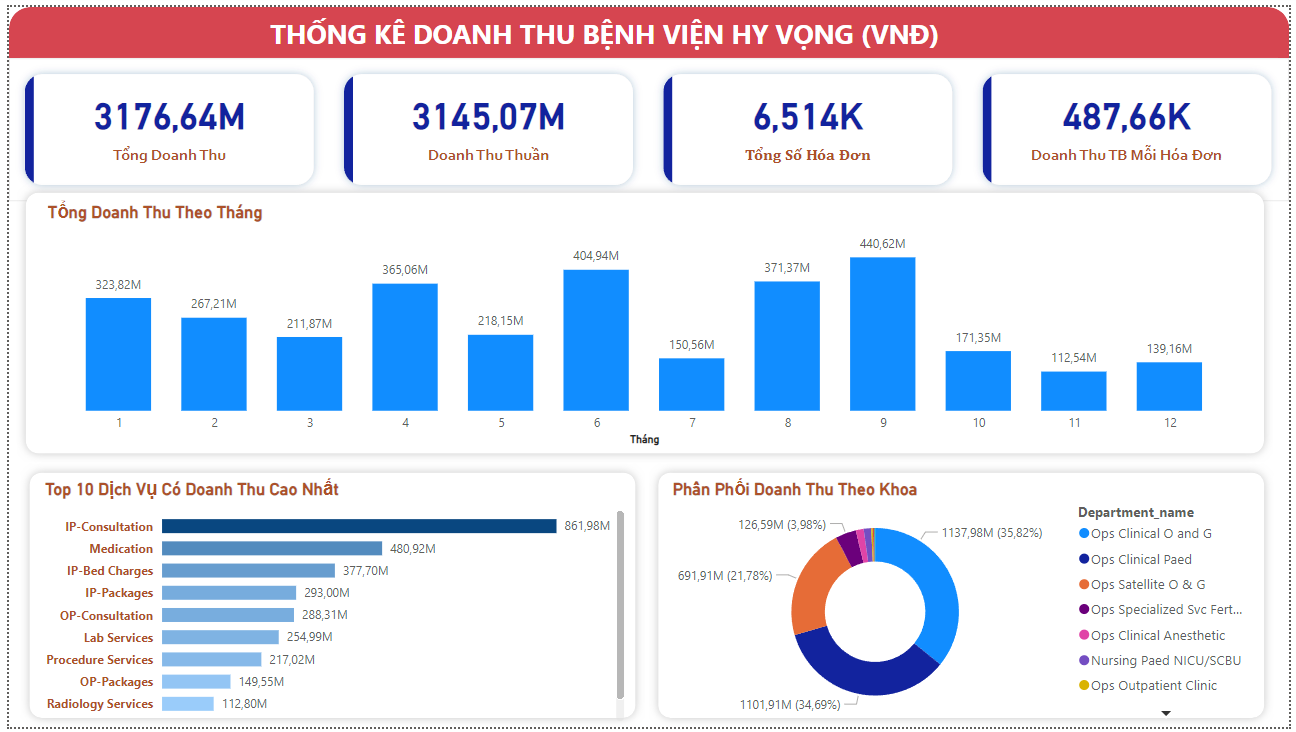

This screenshot's page, from the dashboard's own definition file:
{"tool":"powerbi","page":{"name":"Sales_Dashboard","canvas":[1280,720],"ordinal":0},"visuals":[{"type":"cardVisual","title":"Summary Sales","fields":{"Data":["Sum(FactBill.Gross_sale)","Sum(FactBill.Net_sale)","CountNonNull(FactBill.Bill_ID)","FactBill.Avg Revenue Per Bill"]},"box":[0,50.9,1280.3,143.7],"z":0},{"type":"shape","box":[0,0,1280.3,50.9],"z":1000},{"type":"textbox","box":[256.1,3.9,744.6,57.5],"z":2000},{"type":"shape","box":[7.8,176.4,1256.7,279.6],"z":3000,"group":"g1"},{"type":"shape","box":[11.8,455.9,624.5,263.9],"z":3500},{"type":"columnChart","title":"Tổng Doanh Thu Theo Tháng","fields":{"Category":["DimTime.Bill_month"],"Y":["Sum(FactBill.Gross_sale)"]},"box":[34,193.9,1204.3,250],"z":4000,"group":"g1"},{"type":"clusteredBarChart","title":"Top 10 Dịch Vụ Có Doanh Thu Cao Nhất","fields":{"Category":["DimItem.Item_type"],"Y":["Sum(FactBill.Gross_sale)"]},"box":[31.4,471.6,589.2,248.2],"z":4000},{"type":"group","id":"g1","title":"Group 1","box":[7.8,176.4,1256.7,279.6],"z":6000},{"type":"shape","box":[640.1,455.9,624.5,263.9],"z":7001},{"type":"donutChart","title":"Phân Phối Doanh Thu Theo Khoa","fields":{"Category":["DimDepartment.Department_name"],"Y":["Sum(FactBill.Gross_sale)"]},"box":[658.4,471.6,589.2,248.2],"z":7501}]}

Visuals, with their boxes in screenshot pixels (x1, y1, x2, y2), scaled from the page's 1280x720 canvas onto the 1296x732 screenshot:
"Summary Sales" cardVisual: (left=0, top=52, right=1295, bottom=198)
shape: (left=0, top=0, right=1295, bottom=52)
textbox: (left=259, top=4, right=1013, bottom=62)
shape: (left=8, top=179, right=1280, bottom=464)
shape: (left=12, top=463, right=644, bottom=731)
"Tổng Doanh Thu Theo Tháng" columnChart: (left=34, top=197, right=1254, bottom=451)
"Top 10 Dịch Vụ Có Doanh Thu Cao Nhất" clusteredBarChart: (left=32, top=479, right=628, bottom=731)
"Group 1" group: (left=8, top=179, right=1280, bottom=464)
shape: (left=648, top=463, right=1280, bottom=731)
"Phân Phối Doanh Thu Theo Khoa" donutChart: (left=667, top=479, right=1263, bottom=731)
